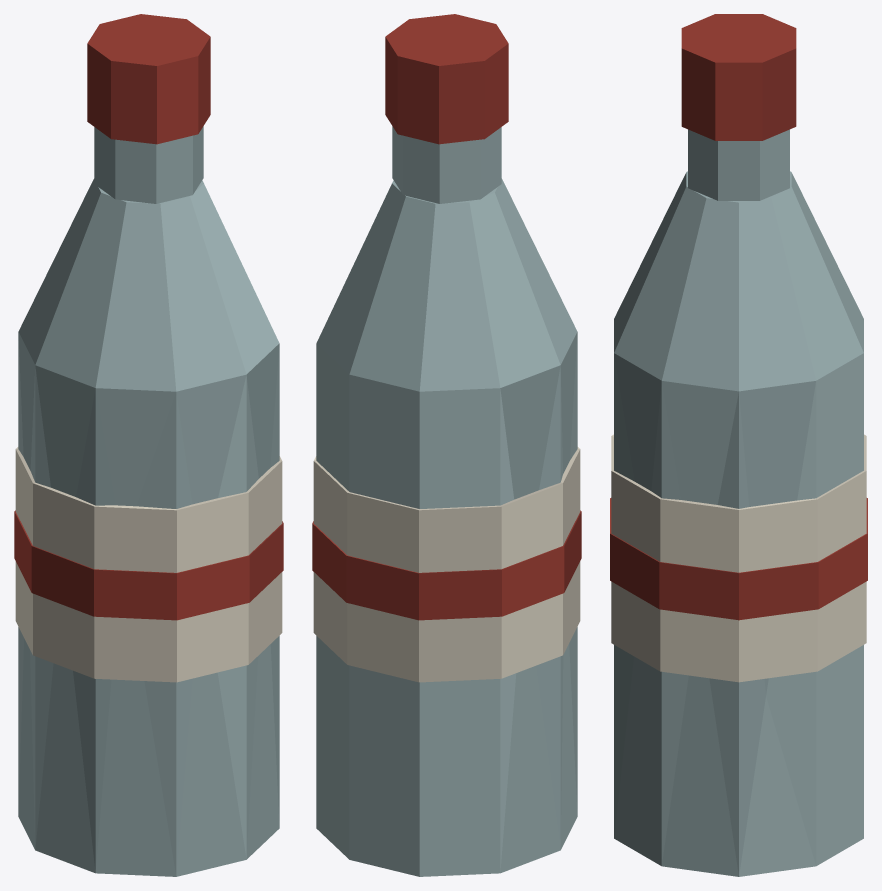
Rendered from bottle_water_plastikovaya_1_5_l_idle.glb.
3 renders of one model, left to right at view 1: azimuth 30°, elevation 25°; view 2: azimuth 150°, elevation 25°; view 3: azimuth 270°, elevation 25°, orthographic.
Parts seen in each view (by area): view 1: bottle_water_plastikovaya_1_5_l_idle; view 2: bottle_water_plastikovaya_1_5_l_idle; view 3: bottle_water_plastikovaya_1_5_l_idle.
Part boxes in pixels (<box>): bottle_water_plastikovaya_1_5_l_idle: <box>14,14,283,876</box>; bottle_water_plastikovaya_1_5_l_idle: <box>312,14,581,876</box>; bottle_water_plastikovaya_1_5_l_idle: <box>610,14,867,876</box>.
Bounding box in the file's own units: 0.0784 × 0.25 × 0.0746.
1 material, 1 textured.
